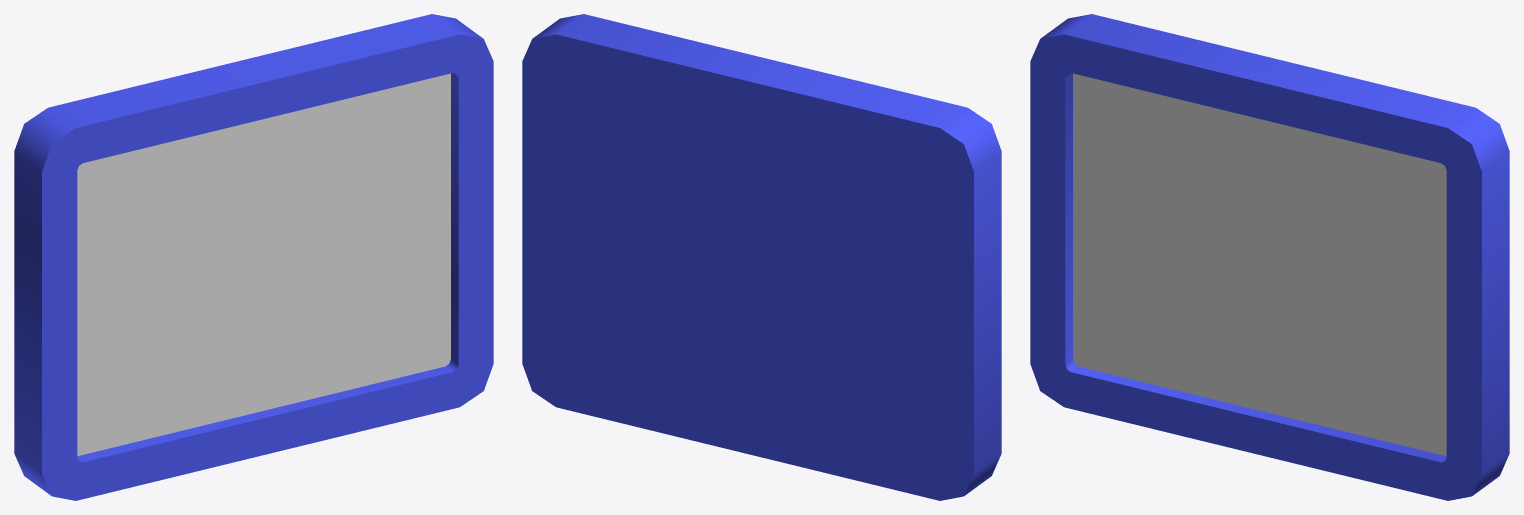
File: sign2.fbx
3 renders of one model, left to right at view 1: azimuth 30°, elevation 25°; view 2: azimuth 150°, elevation 25°; view 3: azimuth 330°, elevation 25°, orthographic.
Visible parts, largest first — view 1: Cube.011; view 2: Cube.011; view 3: Cube.011.
Part boxes in pixels (x1,y1,x2,y2): Cube.011: (14,14,493,500); Cube.011: (522,14,1001,500); Cube.011: (1030,14,1509,500).
Bounding box in the file's own units: 2 × 1.58 × 0.2137.
